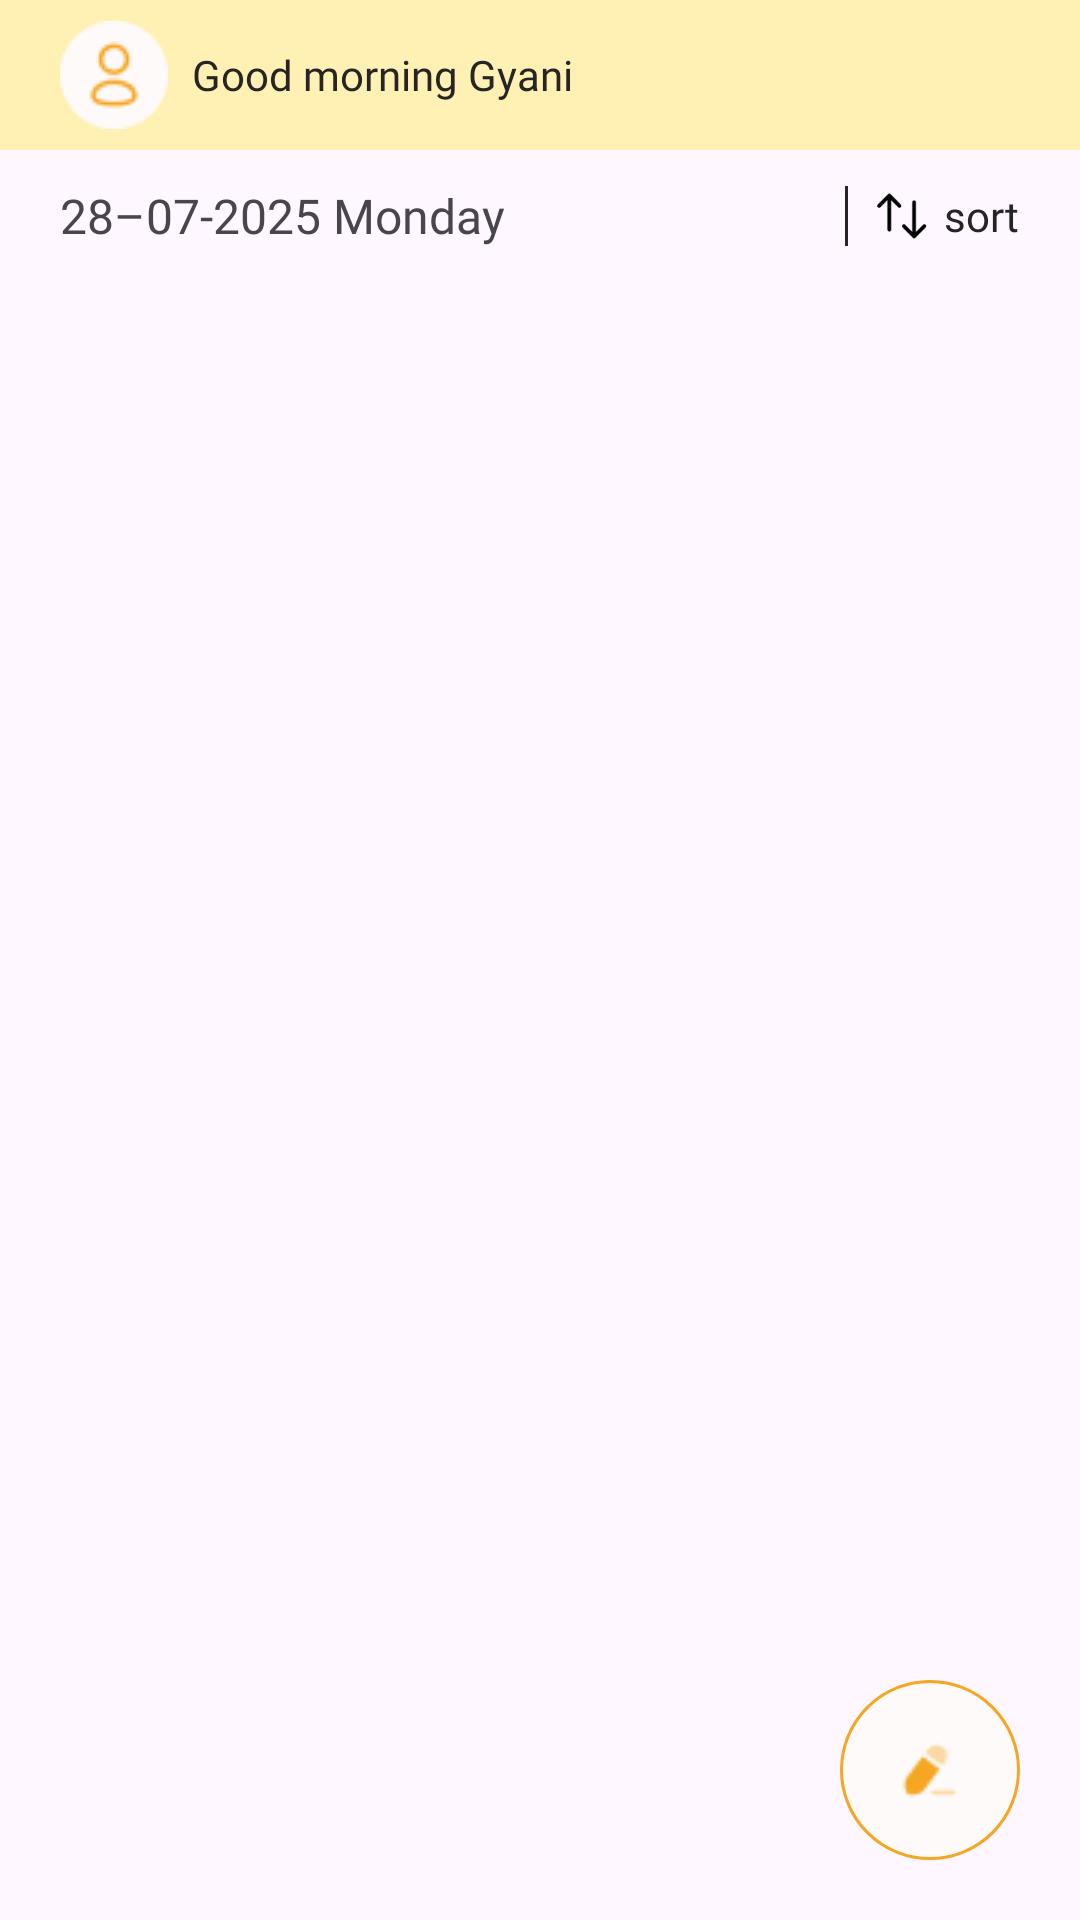

Icon click points for this 1080*1920 phone screenshot, format [x,y]:
journal: [930,1770]
